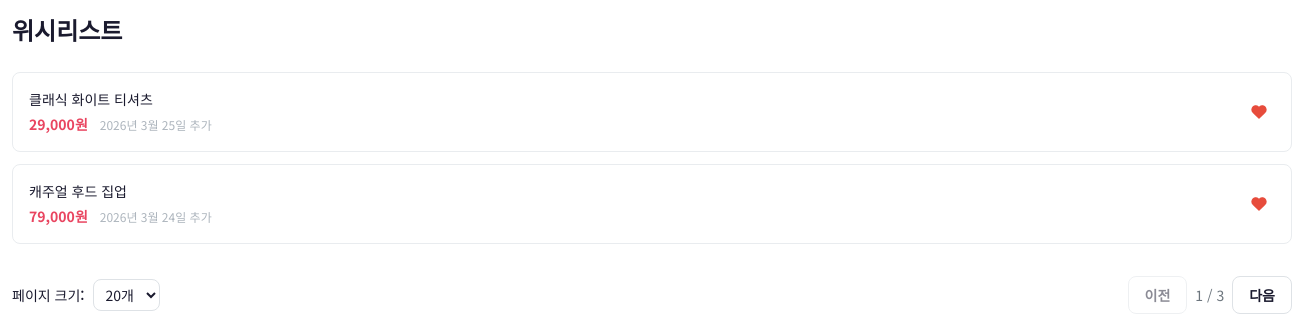
WishlistPage › 페이지네이션 › 다음 버튼 클릭 시 다음 페이지를 로드한다
Click the button "다음". click: (1262, 295)
box: [1232,276,1292,314]
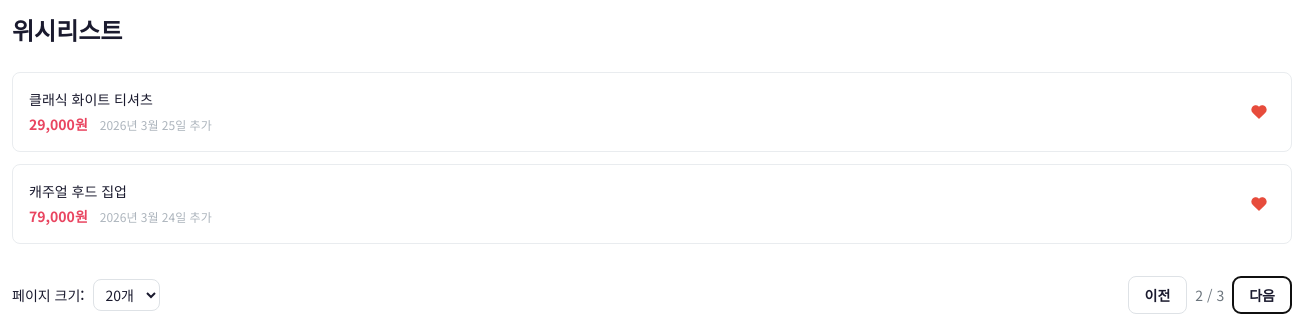
Expected: the text "2 / 3" is shown, [1195,284,1224,306]
